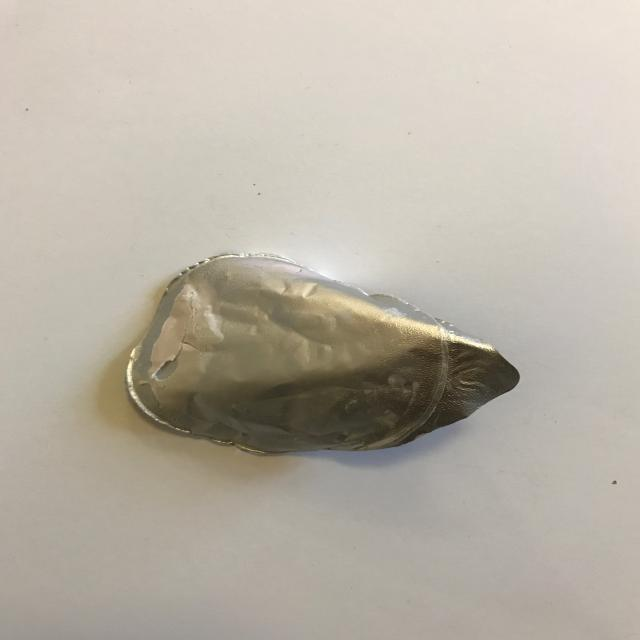Trash: (124, 251, 521, 455)
